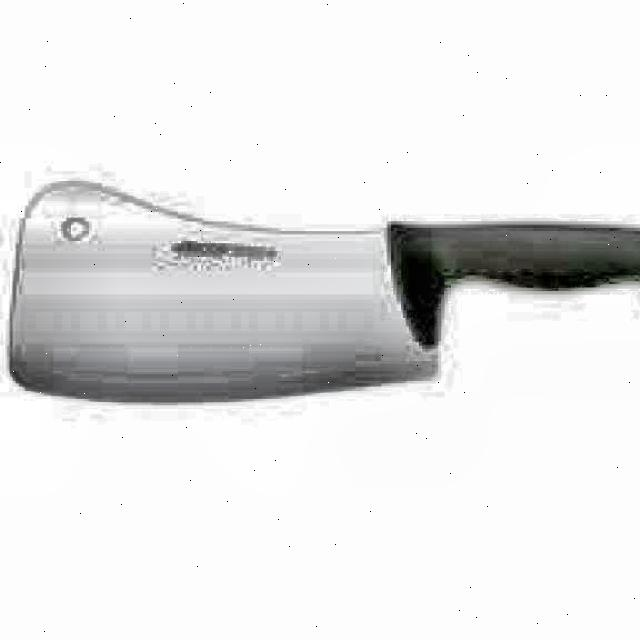knife: (10, 181, 640, 403)
